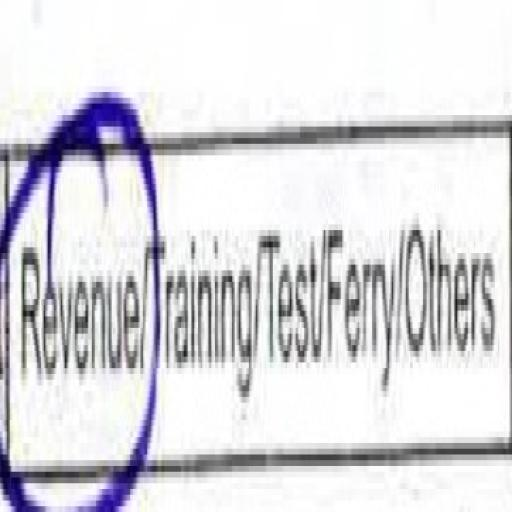check: (0, 38, 147, 512)
